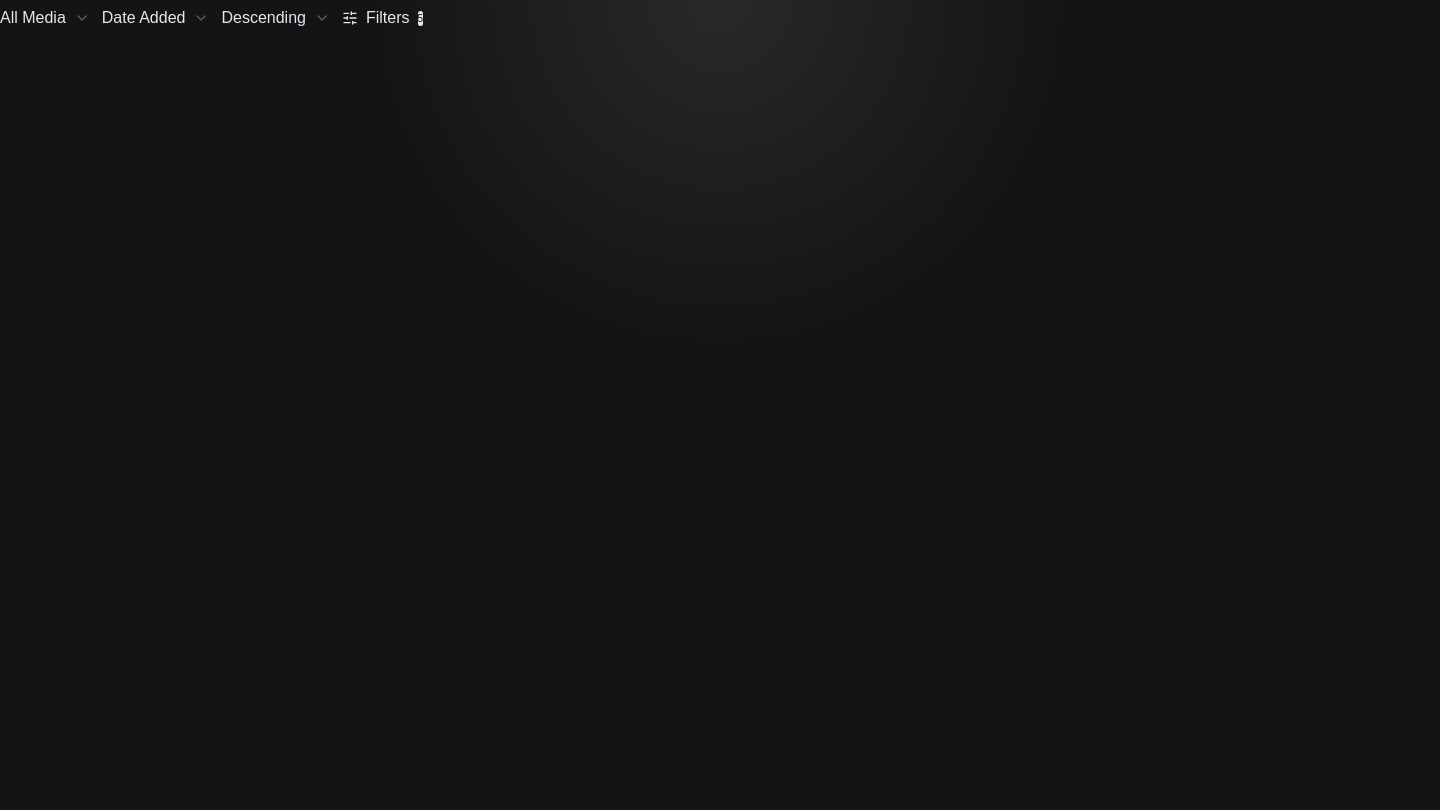
Test: CatalogFiltersPanel rules the Guided view can't show › opens the Filters sheet in Advanced with Guided switched off
The width and height of the screenshot is (1440, 810).
Click the button "Filters 5" at (382, 18), box [342, 2, 423, 34]
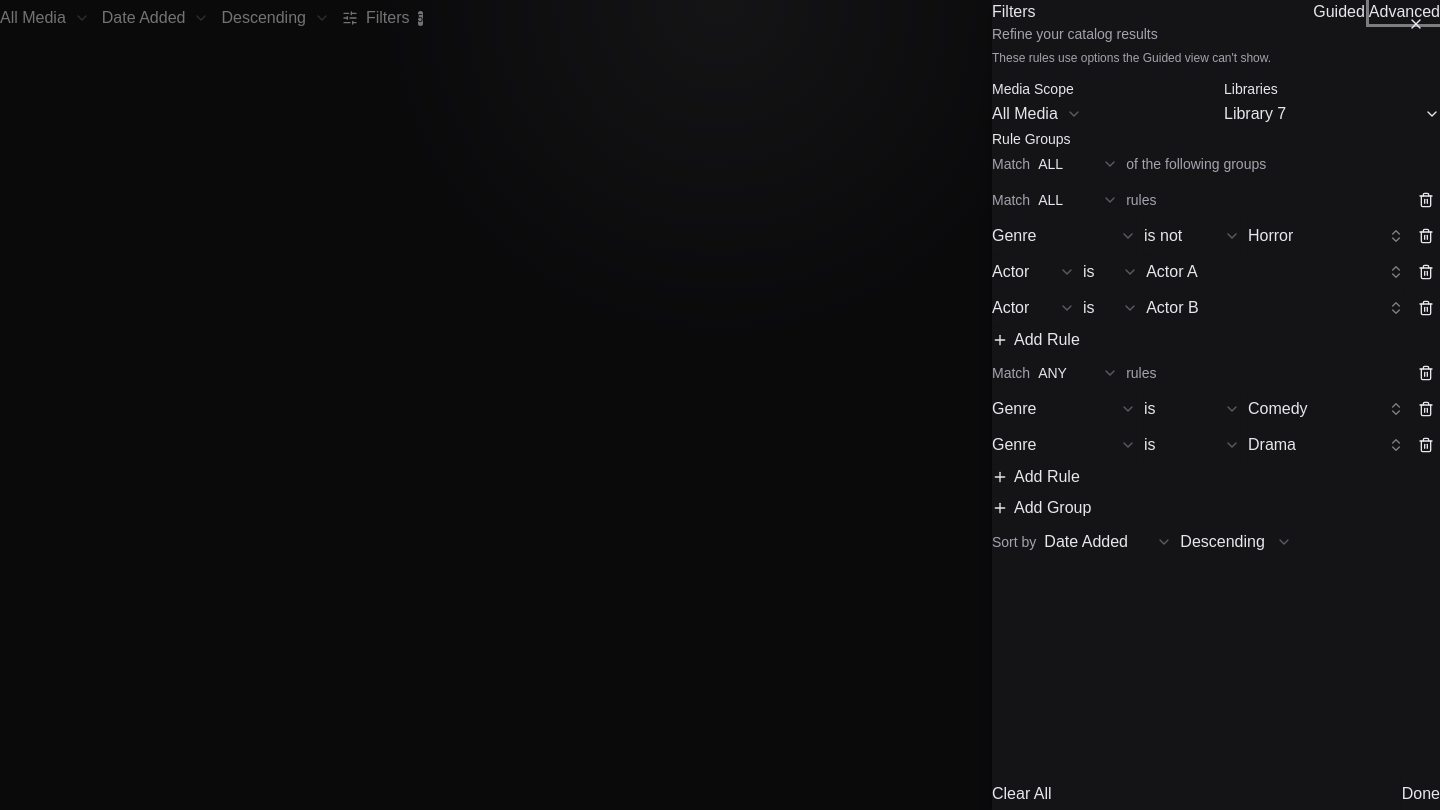
expect the button "Guided" is disabled: met, box [1313, 0, 1365, 24]
expect the text "These rules use options the Guided view can't show." is shown: met, box [992, 51, 1271, 65]
expect the text "Rule Groups" is shown: met, box [992, 131, 1071, 147]
